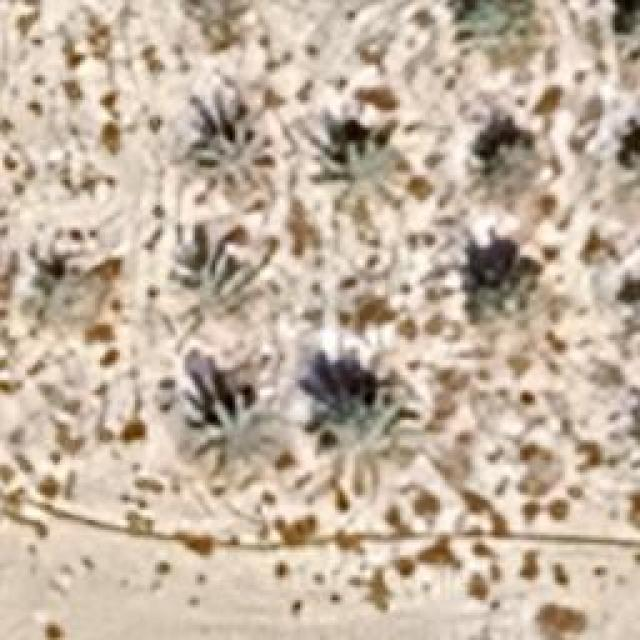PalmTree: (27, 67, 625, 299), (30, 34, 626, 67), (182, 390, 278, 480), (319, 123, 409, 210), (314, 395, 388, 500), (190, 125, 272, 210), (170, 250, 260, 322), (30, 256, 114, 328), (455, 2, 553, 62), (465, 238, 533, 316), (472, 130, 542, 195), (618, 0, 640, 70), (612, 124, 640, 178), (614, 0, 640, 54)
